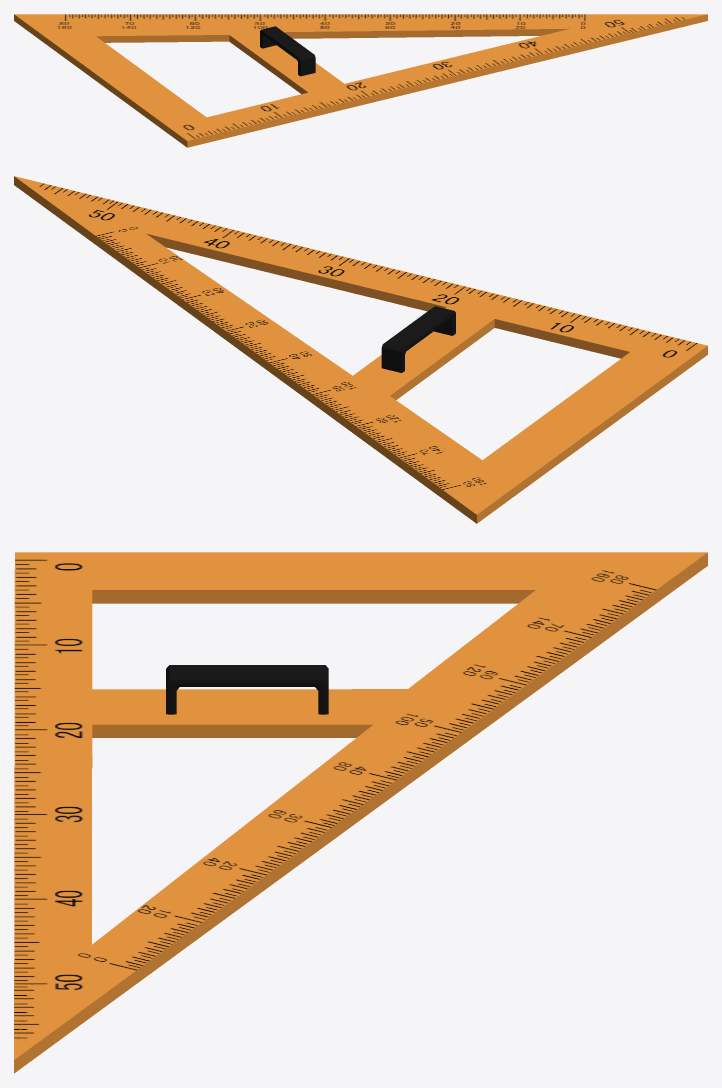
Rendered from SetSquare30.obj.
3 renders of one model, top to bottom at view 1: azimuth 30°, elevation 25°; view 2: azimuth 150°, elevation 25°; view 3: azimuth 270°, elevation 25°, orthographic. The views are drawn at different scales.
Parts seen in each view (by area): view 1: SetSquare30_SetSquare30_lambert3SG, SetSquare30_SetSquare30_pasted__lambert5SG.003; view 2: SetSquare30_SetSquare30_lambert3SG, SetSquare30_SetSquare30_pasted__lambert5SG.003; view 3: SetSquare30_SetSquare30_lambert3SG, SetSquare30_SetSquare30_pasted__lambert5SG.003.
Part boxes in pixels (<box>): SetSquare30_SetSquare30_lambert3SG: <box>14,14,707,147</box>; SetSquare30_SetSquare30_pasted__lambert5SG.003: <box>260,26,315,76</box>; SetSquare30_SetSquare30_lambert3SG: <box>14,176,707,523</box>; SetSquare30_SetSquare30_pasted__lambert5SG.003: <box>381,306,455,372</box>; SetSquare30_SetSquare30_lambert3SG: <box>14,552,707,1073</box>; SetSquare30_SetSquare30_pasted__lambert5SG.003: <box>166,665,328,714</box>.
Size of the model in its own units: 1.73 by 0.0771 by 1.
